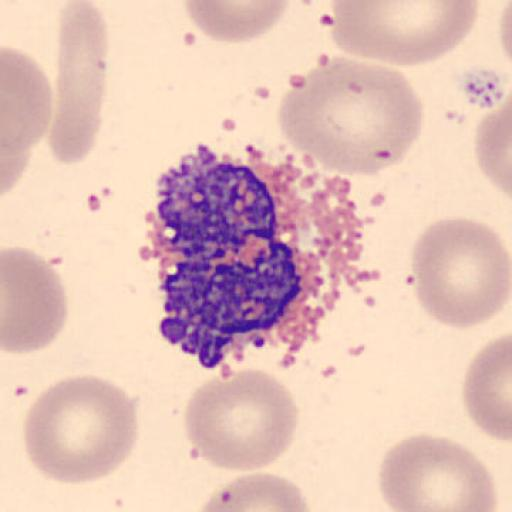RBC: (276, 53, 424, 178), (21, 372, 141, 486), (183, 366, 299, 473), (410, 214, 512, 332), (47, 0, 108, 166), (328, 1, 480, 67), (376, 431, 498, 512), (0, 44, 54, 199), (2, 246, 69, 355), (46, 44, 106, 165), (1, 44, 54, 158), (461, 332, 512, 445), (190, 471, 312, 512), (183, 0, 291, 44), (473, 96, 512, 199), (498, 0, 512, 106), (498, 0, 512, 65)
WBC: (148, 142, 363, 370)
